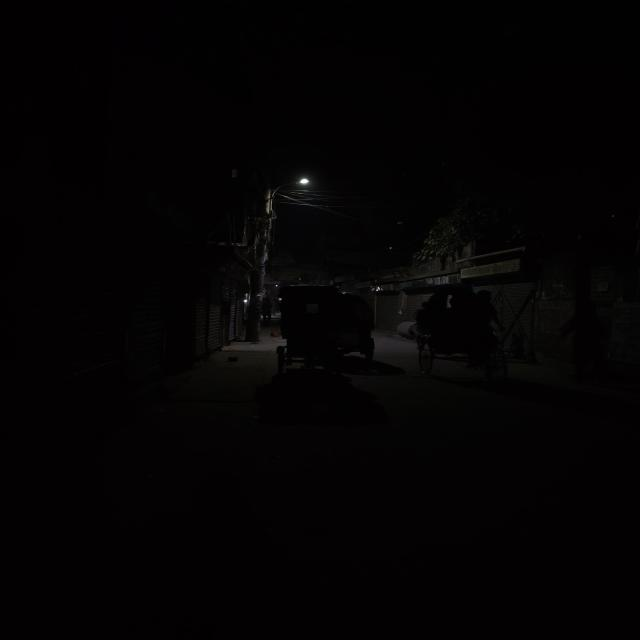rickshaw: (415, 282, 514, 382), (265, 278, 347, 380), (342, 287, 385, 365)
